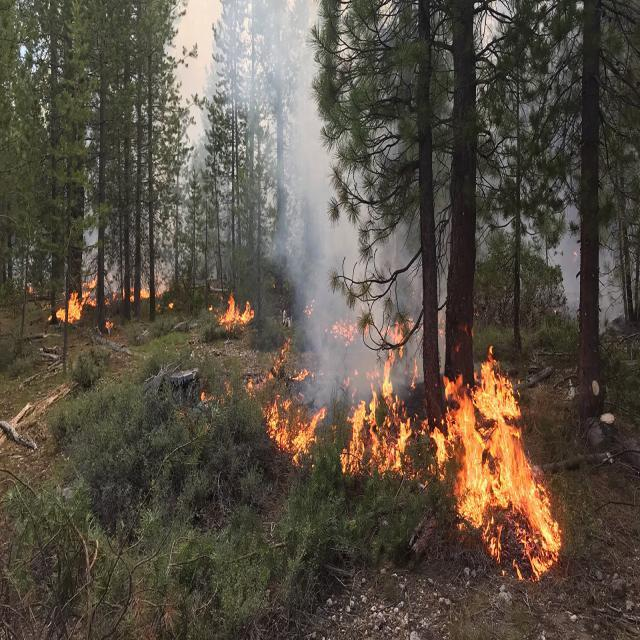Fire: (442, 362, 566, 584), (49, 256, 183, 354), (252, 334, 329, 462), (339, 356, 421, 472), (208, 286, 261, 342), (54, 285, 85, 340)
Smoke: (282, 132, 330, 402), (209, 0, 312, 108)
